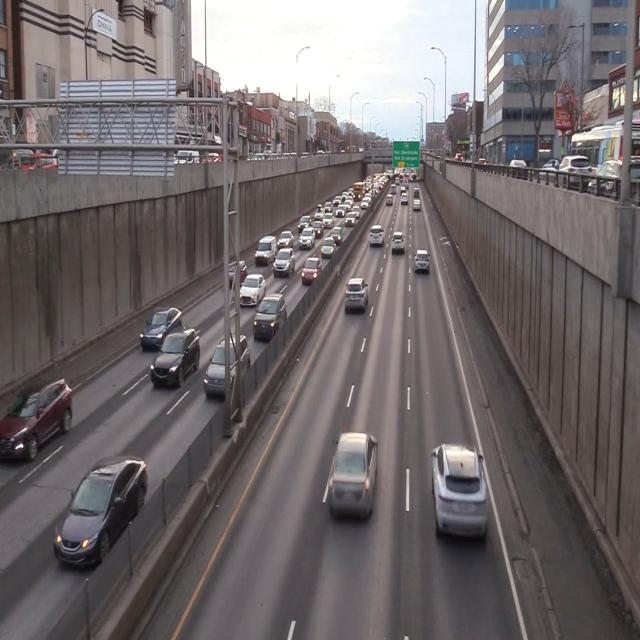Car: (52, 452, 151, 576), (0, 370, 78, 474), (429, 440, 490, 540), (327, 428, 382, 526), (148, 326, 206, 395), (202, 333, 252, 405), (249, 289, 290, 344), (140, 303, 182, 354), (343, 275, 372, 316), (237, 273, 266, 310), (300, 254, 324, 289), (412, 245, 431, 279), (388, 230, 408, 258)
